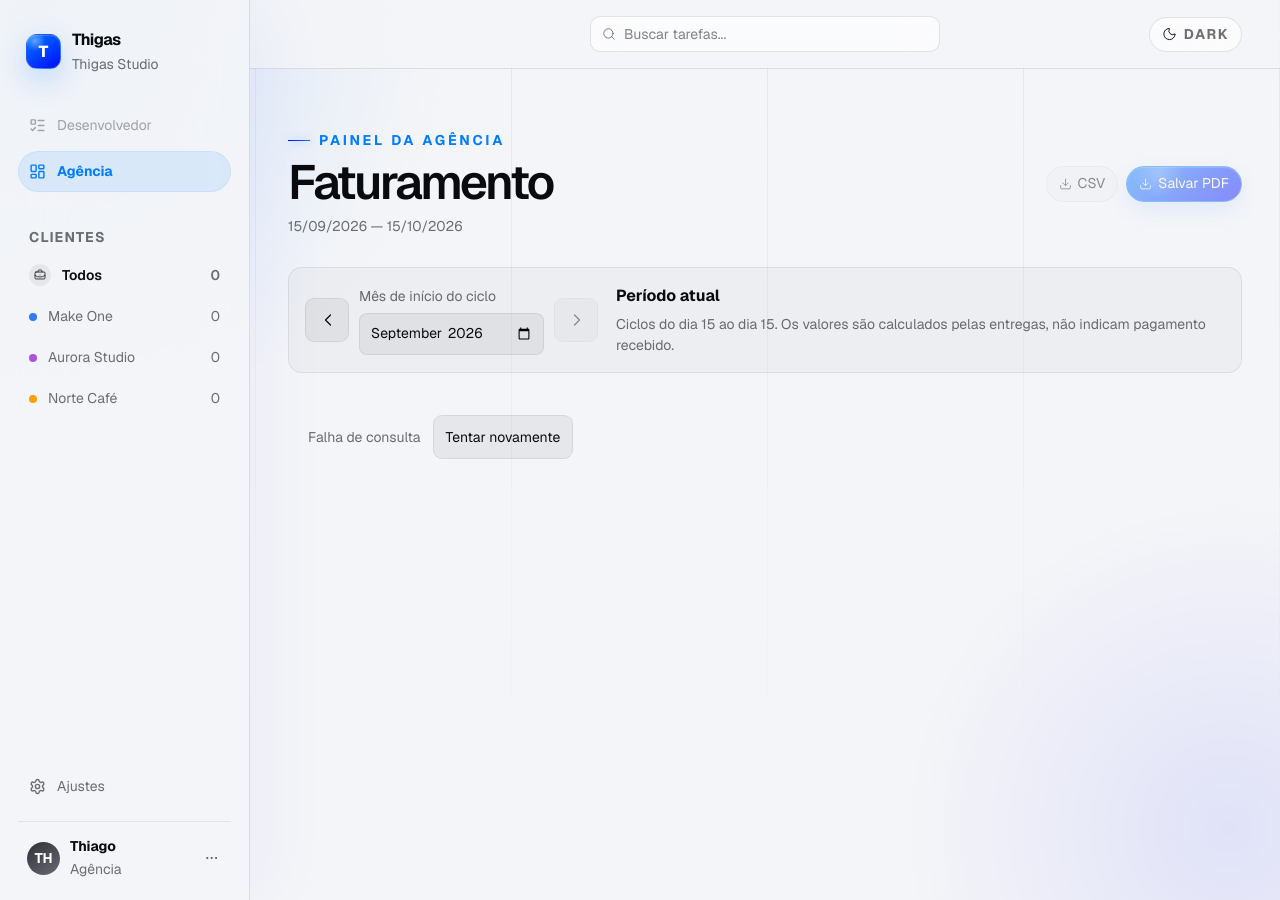
Test: histórico de faturamento da agência › mostra erro recuperável em vez de valores parciais
Expected: the message shows "Falha de consulta", [308,428,421,446]
Expected: the button "CSV" is disabled, [1046,166,1118,202]
Click the button "Tentar novamente".
click(503, 437)  # box [433,415,573,459]
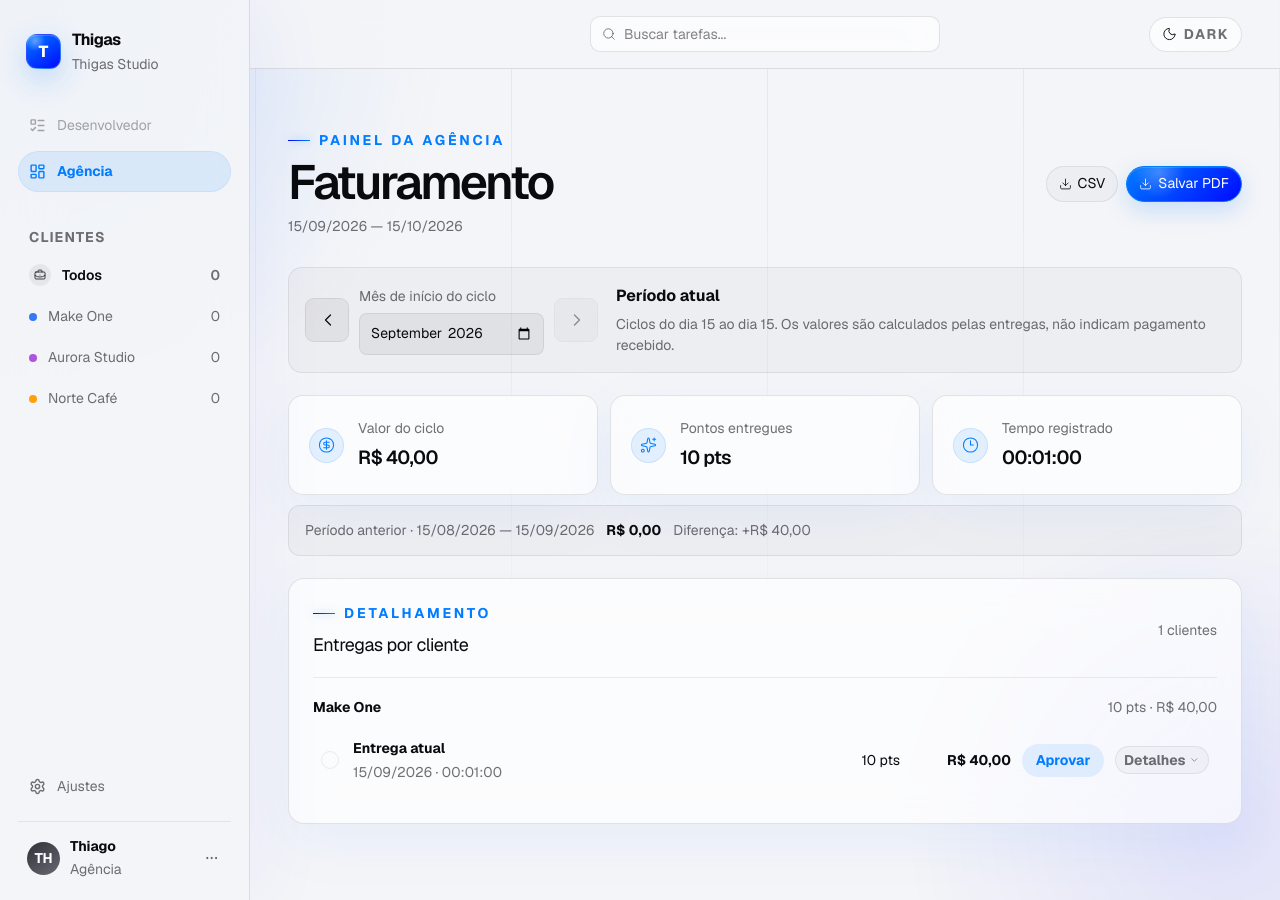
Now the text "Entrega atual" is shown, box [353,738,445,756]
